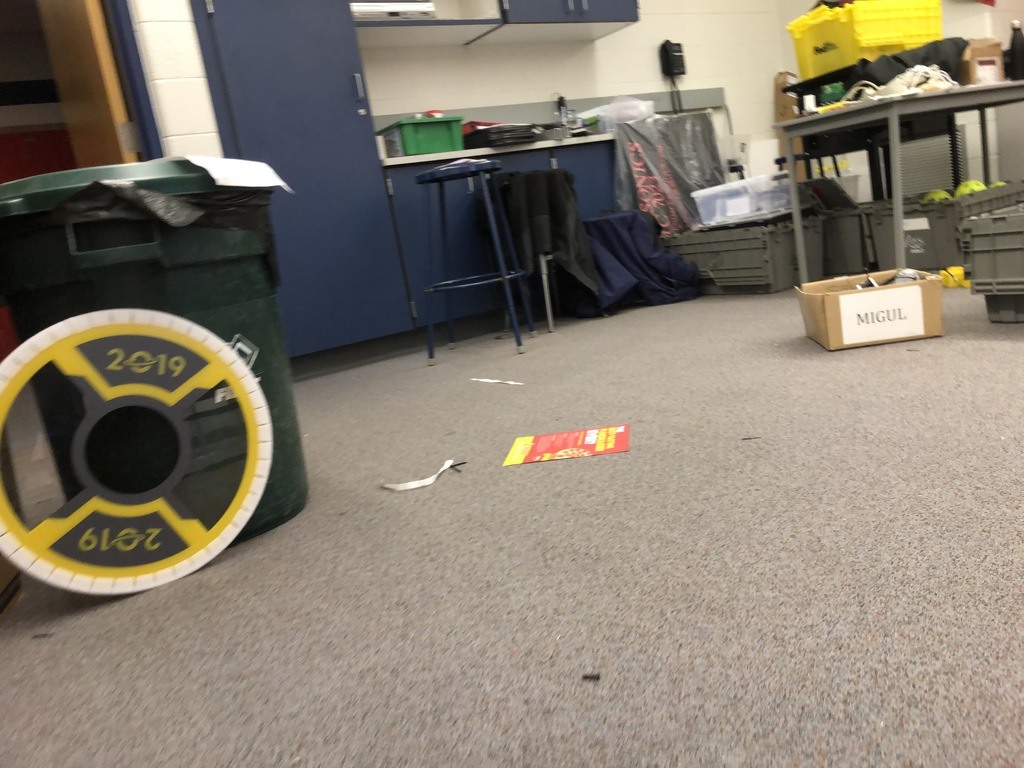hatch_panel: (1, 300, 279, 615)
